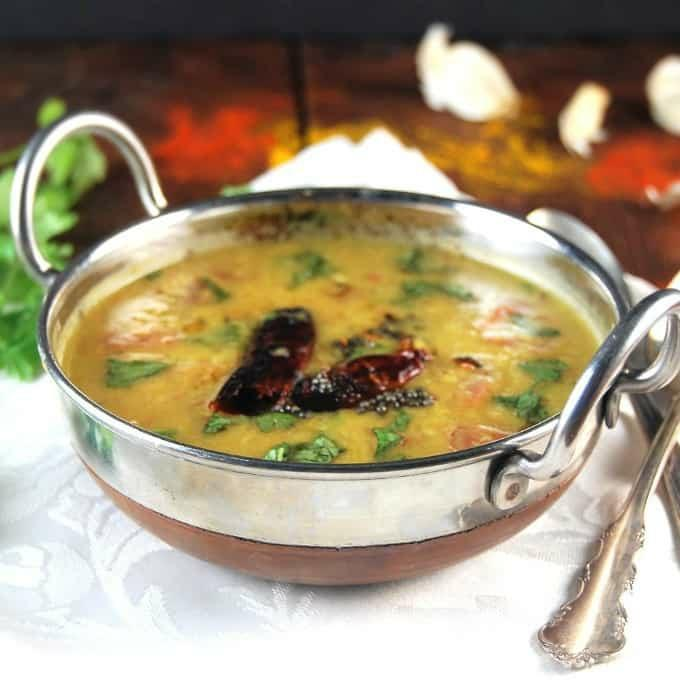Dal: (65, 237, 605, 463)
